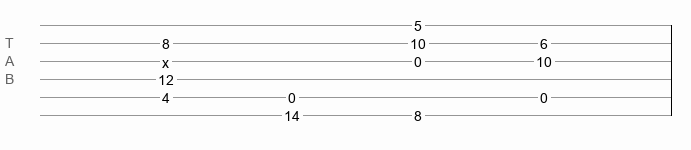0: (288, 90, 296, 100), (414, 54, 422, 64), (540, 90, 548, 100)
10: (410, 36, 426, 46), (536, 54, 552, 64)
12: (158, 72, 174, 82)
14: (284, 108, 300, 118)
4: (162, 90, 170, 100)
5: (414, 18, 422, 28)
6: (540, 36, 548, 46)
8: (162, 36, 170, 46), (414, 108, 422, 118)
x: (162, 55, 169, 63)
